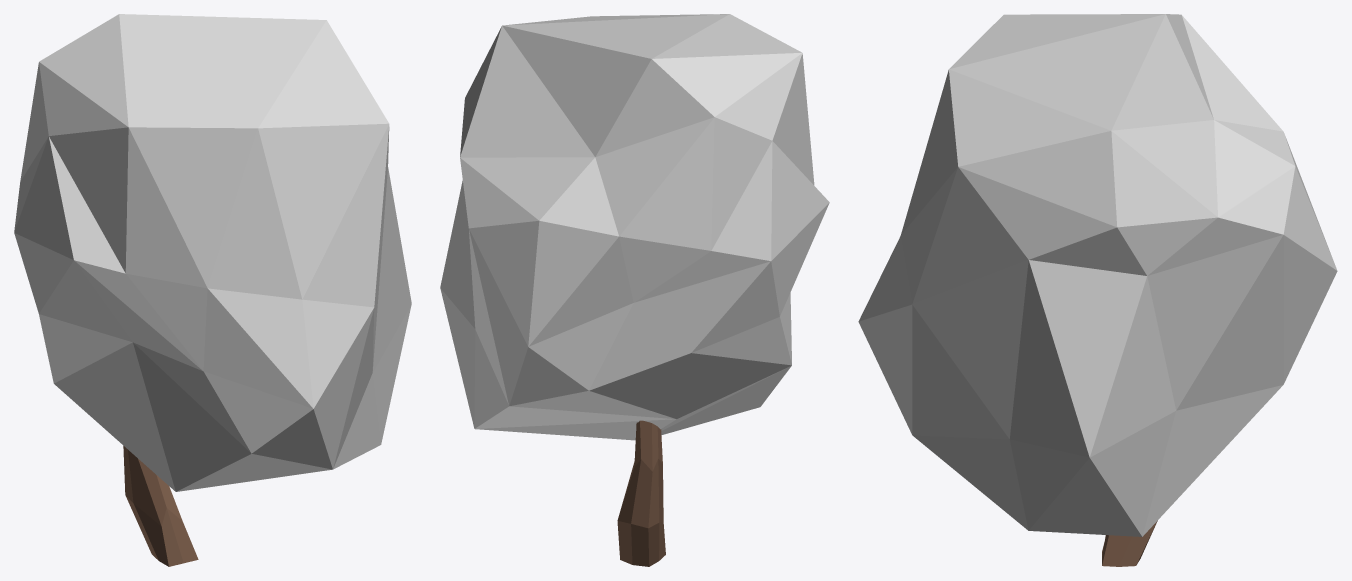
The model's file is Tree_44_White.fbx.
3 views of the same model, side by side, from view 1: azimuth 30°, elevation 25°; view 2: azimuth 150°, elevation 25°; view 3: azimuth 270°, elevation 25° (orthographic). The views are drawn at different scales.
Parts seen in each view (by area): view 1: Tree_44_White_Part_1, Tree_44_White_Part_2; view 2: Tree_44_White_Part_1, Tree_44_White_Part_2; view 3: Tree_44_White_Part_1, Tree_44_White_Part_2.
Part boxes in pixels (<box>): Tree_44_White_Part_1: <box>14,14,411,491</box>; Tree_44_White_Part_2: <box>123,446,198,566</box>; Tree_44_White_Part_1: <box>440,14,829,440</box>; Tree_44_White_Part_2: <box>617,420,665,566</box>; Tree_44_White_Part_1: <box>858,14,1337,536</box>; Tree_44_White_Part_2: <box>1102,520,1157,566</box>.
Size of the model in its own units: 595 by 825 by 677.
